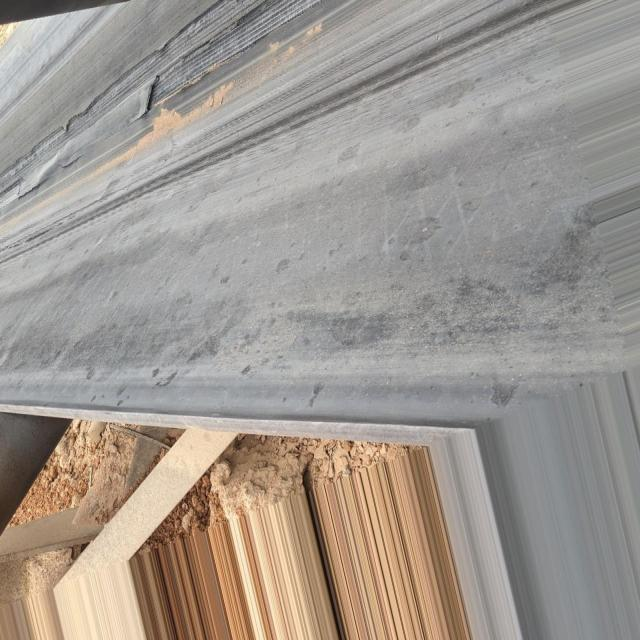Roller: (2, 411, 71, 530), (4, 0, 126, 24)
Tear: (3, 0, 342, 211)
